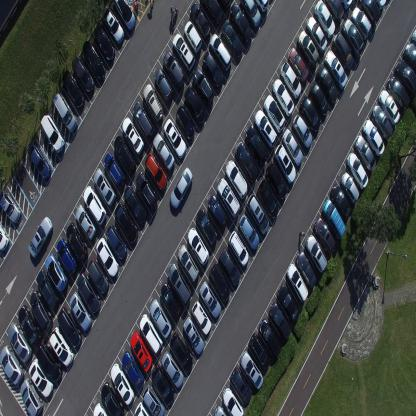car: (51, 90, 78, 134), (35, 340, 62, 382), (28, 216, 53, 260), (76, 271, 101, 314), (114, 201, 138, 245), (110, 362, 134, 406), (170, 165, 194, 209), (40, 113, 65, 155), (0, 344, 25, 386), (322, 198, 346, 241), (49, 326, 74, 367), (26, 141, 52, 180), (114, 134, 137, 178), (277, 283, 300, 327), (18, 304, 41, 348), (234, 142, 258, 184), (216, 178, 240, 220), (163, 117, 187, 159), (229, 2, 253, 44), (57, 307, 81, 349), (170, 332, 194, 374), (81, 39, 106, 79), (70, 54, 95, 94), (28, 358, 53, 398), (168, 262, 191, 305), (246, 193, 270, 234), (151, 365, 175, 406), (324, 49, 348, 90), (149, 298, 172, 340), (30, 290, 53, 332), (130, 331, 153, 373), (258, 318, 281, 360), (256, 178, 280, 218), (83, 185, 107, 225), (61, 69, 85, 109), (8, 322, 32, 362), (139, 314, 163, 354), (240, 350, 264, 390), (36, 268, 58, 311), (225, 159, 248, 200), (132, 101, 155, 142), (44, 253, 68, 292), (386, 76, 410, 115), (192, 66, 214, 108), (266, 160, 288, 202), (186, 226, 209, 266), (135, 172, 158, 212), (123, 185, 146, 225), (95, 236, 118, 276), (65, 222, 88, 262), (183, 84, 206, 124), (172, 32, 195, 72), (121, 350, 144, 390), (248, 332, 271, 372), (316, 64, 339, 104), (20, 377, 44, 415), (362, 118, 386, 156), (254, 110, 278, 148), (245, 125, 267, 166), (70, 291, 92, 332), (286, 262, 308, 303), (295, 250, 317, 291), (306, 233, 328, 274), (342, 18, 364, 59), (332, 31, 354, 72), (274, 143, 296, 184), (162, 51, 185, 90), (101, 5, 125, 42), (395, 58, 416, 100), (195, 207, 217, 247), (94, 167, 116, 207), (177, 244, 199, 284), (221, 18, 243, 58), (264, 92, 286, 132), (144, 154, 167, 192), (218, 247, 241, 285), (209, 32, 232, 70), (161, 351, 184, 389), (269, 301, 292, 339), (378, 89, 401, 127), (209, 261, 230, 302), (122, 117, 144, 156), (152, 133, 174, 172), (200, 280, 222, 319), (230, 366, 252, 405), (346, 151, 368, 190), (272, 78, 294, 117), (280, 60, 302, 99), (92, 23, 115, 60), (142, 82, 163, 122), (183, 314, 204, 354), (228, 230, 250, 268), (106, 223, 128, 261), (189, 2, 211, 40), (330, 183, 352, 221), (354, 134, 376, 172), (298, 29, 320, 67), (314, 0, 336, 38), (57, 237, 78, 276), (238, 213, 260, 250), (87, 257, 109, 294), (314, 217, 336, 254), (287, 46, 309, 83), (104, 152, 125, 190), (300, 94, 321, 132), (282, 128, 303, 166), (0, 188, 22, 224), (100, 382, 124, 415), (350, 6, 372, 42), (110, 0, 136, 30), (160, 282, 181, 319), (202, 51, 223, 88), (306, 15, 327, 52), (175, 104, 195, 142), (76, 204, 96, 241), (372, 104, 392, 141), (142, 383, 165, 415), (309, 80, 329, 116), (191, 300, 212, 334), (292, 114, 312, 149), (239, 0, 262, 29), (222, 386, 244, 416), (183, 19, 202, 53), (154, 68, 172, 103), (341, 171, 359, 206), (208, 195, 226, 229), (199, 0, 223, 25), (358, 0, 380, 27), (323, 0, 344, 22), (403, 42, 415, 76), (0, 224, 10, 251), (134, 402, 152, 416), (254, 0, 269, 14), (93, 402, 108, 415), (214, 403, 228, 415), (373, 0, 386, 11), (410, 26, 416, 48), (339, 0, 353, 9), (217, 0, 231, 8)
